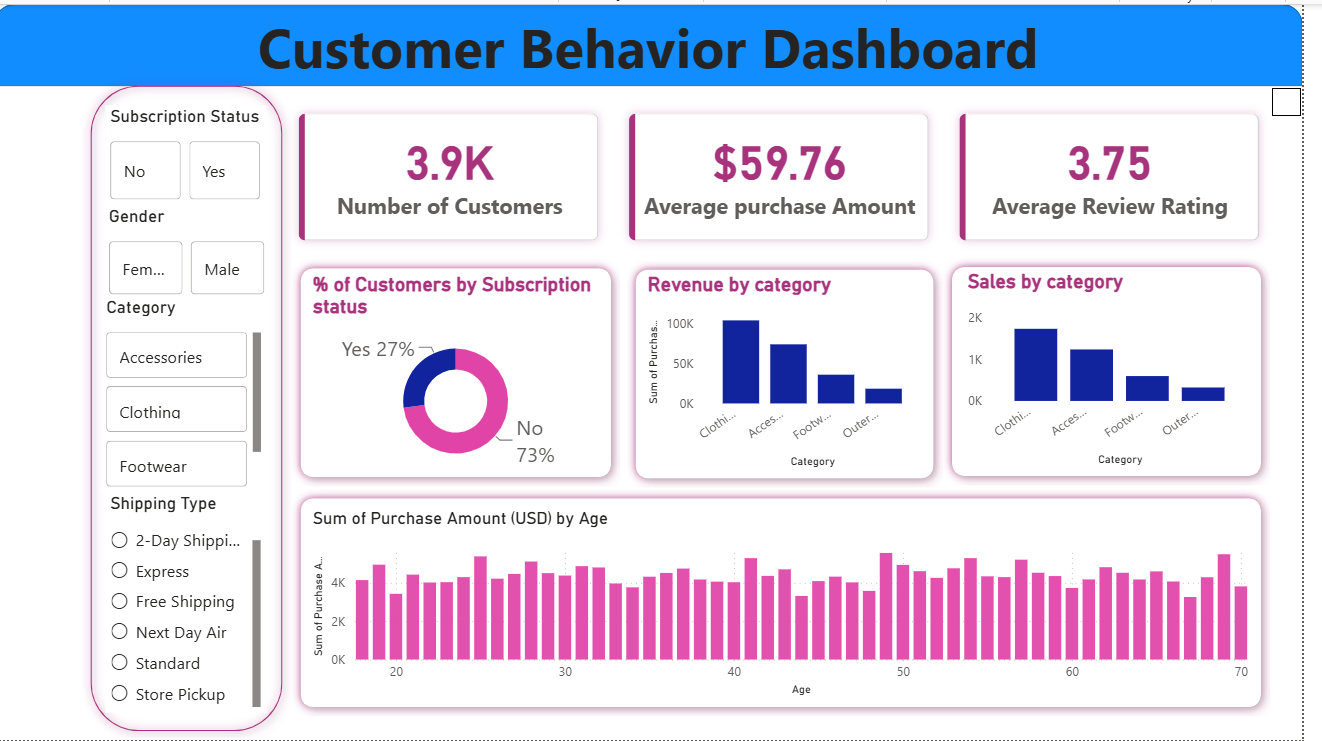

This screenshot's page, from the dashboard's own definition file:
{"tool":"powerbi","page":{"name":"Page 1","canvas":[1280,720],"ordinal":0},"visuals":[{"type":"cardVisual","fields":{"Data":["public customer_shopping_behavior.Number of Customers","public customer_shopping_behavior.Average purchase Amount","public customer_shopping_behavior.Average Review Rating"]},"box":[270.2,79.5,995.4,181],"z":0},{"type":"shape","box":[0,0,1280.3,81],"z":1000},{"type":"textbox","box":[0,0,1280.3,81],"z":2000},{"type":"textbox","box":[111.3,419.4,237.2,116.2],"z":3000},{"type":"shape","box":[291,249.5,321.6,222.6],"z":4000},{"type":"donutChart","title":"% of Customers by Subscription status","fields":{"Category":["public customer_shopping_behavior.Subscription Status"],"Y":["CountNonNull(public customer_shopping_behavior.Customer ID)"]},"box":[306.9,262.9,289.8,196.9],"z":5000},{"type":"shape","box":[928.1,248.2,320.4,222.6],"z":6000},{"type":"shape","box":[618.8,250.7,309.4,222.6],"z":7000},{"type":"clusteredColumnChart","title":"Revenue by category","fields":{"Category":["public customer_shopping_behavior.Category"],"Y":["Sum(public customer_shopping_behavior.Purchase Amount (USD))"]},"box":[634.7,262.9,278.8,195.7],"z":8000},{"type":"clusteredColumnChart","title":"Sales by category","fields":{"Category":["public customer_shopping_behavior.Category"],"Y":["CountNonNull(public customer_shopping_behavior.Customer ID)"]},"box":[947.7,260.5,284.9,195.7],"z":9000},{"type":"shape","box":[85.6,70.9,205.4,649.3],"z":10000},{"type":"advancedSlicerVisual","fields":{"Values":["public customer_shopping_behavior.Subscription Status"]},"box":[108.8,99,157.7,97.8],"z":11000},{"type":"advancedSlicerVisual","fields":{"Values":["public customer_shopping_behavior.Gender"]},"box":[107.6,196.9,162.6,92.9],"z":12000},{"type":"advancedSlicerVisual","fields":{"Values":["public customer_shopping_behavior.Category"]},"box":[105.2,286.1,161.4,192],"z":13000},{"type":"listSlicer","fields":{"Values":["public customer_shopping_behavior.Shipping Type"]},"box":[108.8,478.1,157.7,215.2],"z":14000},{"type":"shape","box":[291,474.5,957.5,222.6],"z":15000},{"type":"clusteredColumnChart","fields":{"Category":["public customer_shopping_behavior.Age"],"Y":["Sum(public customer_shopping_behavior.Purchase Amount (USD))"]},"box":[306.9,492.8,925.7,188.3],"z":16000}]}

Visuals, with their boxes in screenshot pixels (x1, y1, x2, y2), scaled from the page's 1280x720 canvas onto the 1322x741 screenshot:
cardVisual - public customer_shopping_behavior.Number of Customers x public customer_shopping_behavior.Average purchase Amount: [left=279, top=82, right=1307, bottom=268]
shape: [left=0, top=0, right=1321, bottom=83]
textbox: [left=0, top=0, right=1321, bottom=83]
textbox: [left=115, top=432, right=360, bottom=551]
shape: [left=301, top=257, right=633, bottom=486]
"% of Customers by Subscription status" donutChart: [left=317, top=271, right=616, bottom=473]
shape: [left=959, top=255, right=1289, bottom=485]
shape: [left=639, top=258, right=959, bottom=487]
"Revenue by category" clusteredColumnChart: [left=656, top=271, right=943, bottom=472]
"Sales by category" clusteredColumnChart: [left=979, top=268, right=1273, bottom=470]
shape: [left=88, top=73, right=301, bottom=740]
advancedSlicerVisual - public customer_shopping_behavior.Subscription Status: [left=112, top=102, right=275, bottom=203]
advancedSlicerVisual - public customer_shopping_behavior.Gender: [left=111, top=203, right=279, bottom=298]
advancedSlicerVisual - public customer_shopping_behavior.Category: [left=109, top=294, right=275, bottom=492]
listSlicer - public customer_shopping_behavior.Shipping Type: [left=112, top=492, right=275, bottom=714]
shape: [left=301, top=488, right=1289, bottom=717]
clusteredColumnChart - public customer_shopping_behavior.Age x Sum(public customer_shopping_behavior.Purchase Amount (USD)): [left=317, top=507, right=1273, bottom=701]
